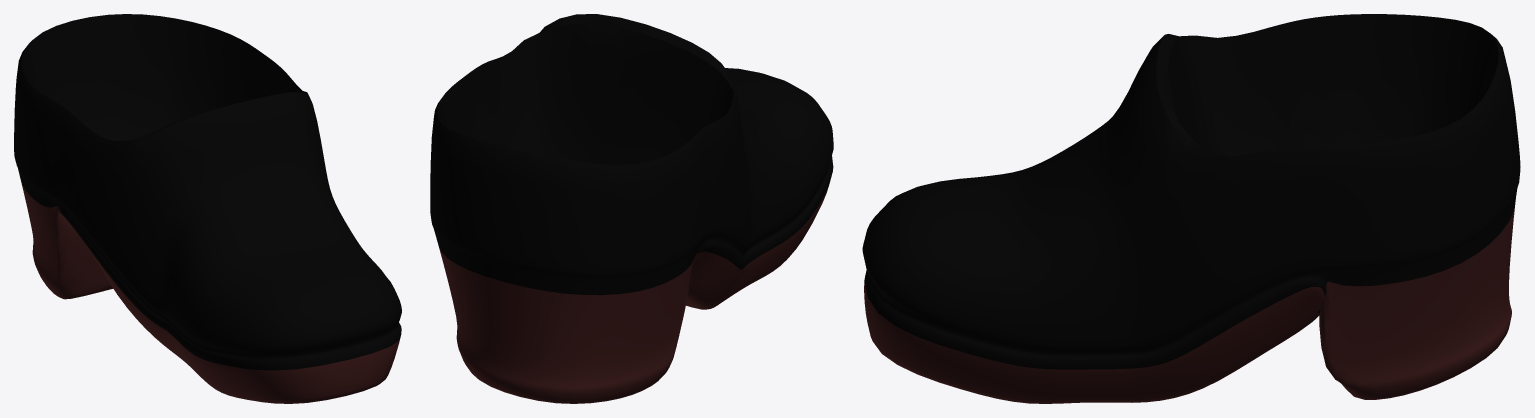
The model's file is Boot.fbx.
3 views of the same model, side by side, from view 1: azimuth 30°, elevation 25°; view 2: azimuth 150°, elevation 25°; view 3: azimuth 270°, elevation 25° (orthographic). The views are drawn at different scales.
Parts seen in each view (by area): view 1: Plane; view 2: Plane; view 3: Plane.
Part boxes in pixels (bbox=[...]): Plane: bbox=[14, 14, 401, 403]; Plane: bbox=[430, 14, 833, 403]; Plane: bbox=[862, 14, 1520, 403].
Size of the model in its own units: 603 by 615 by 1221.
